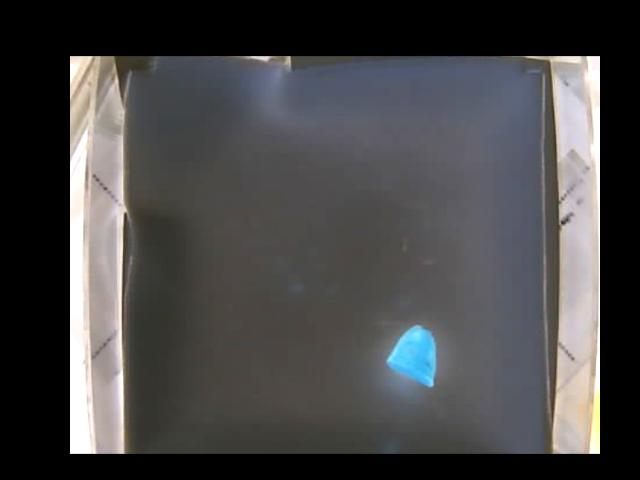Carrot: (389, 323, 434, 386)
